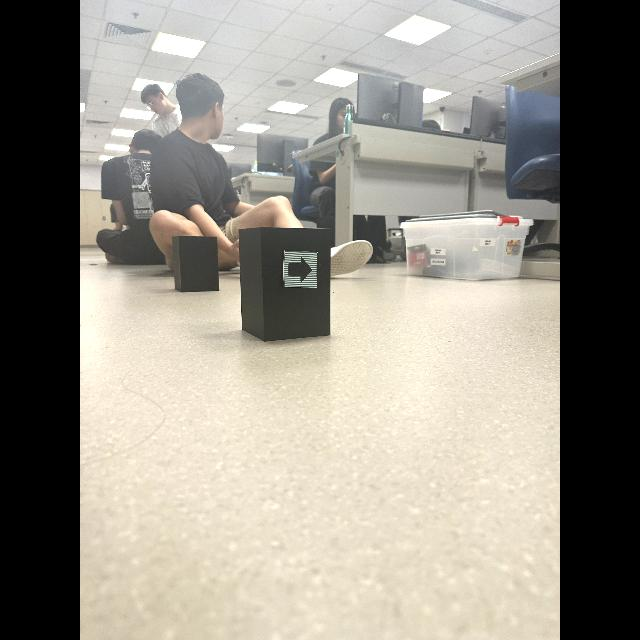RIGHT: (288, 257, 312, 282)
